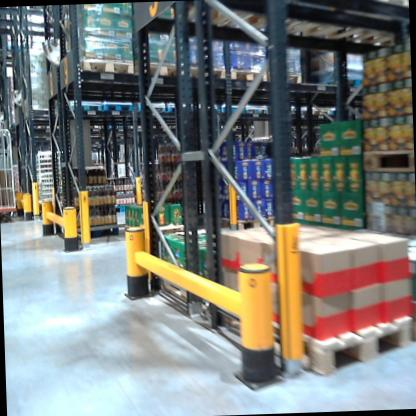pallet: (211, 297, 415, 382), (327, 0, 410, 60), (262, 0, 372, 44), (208, 209, 281, 234), (136, 57, 193, 88), (73, 55, 136, 83), (358, 147, 413, 177), (183, 58, 228, 88), (265, 63, 309, 92), (223, 64, 269, 85), (164, 100, 202, 119), (63, 101, 102, 116), (135, 99, 167, 116), (100, 99, 138, 113), (224, 99, 247, 117), (246, 103, 271, 115)
